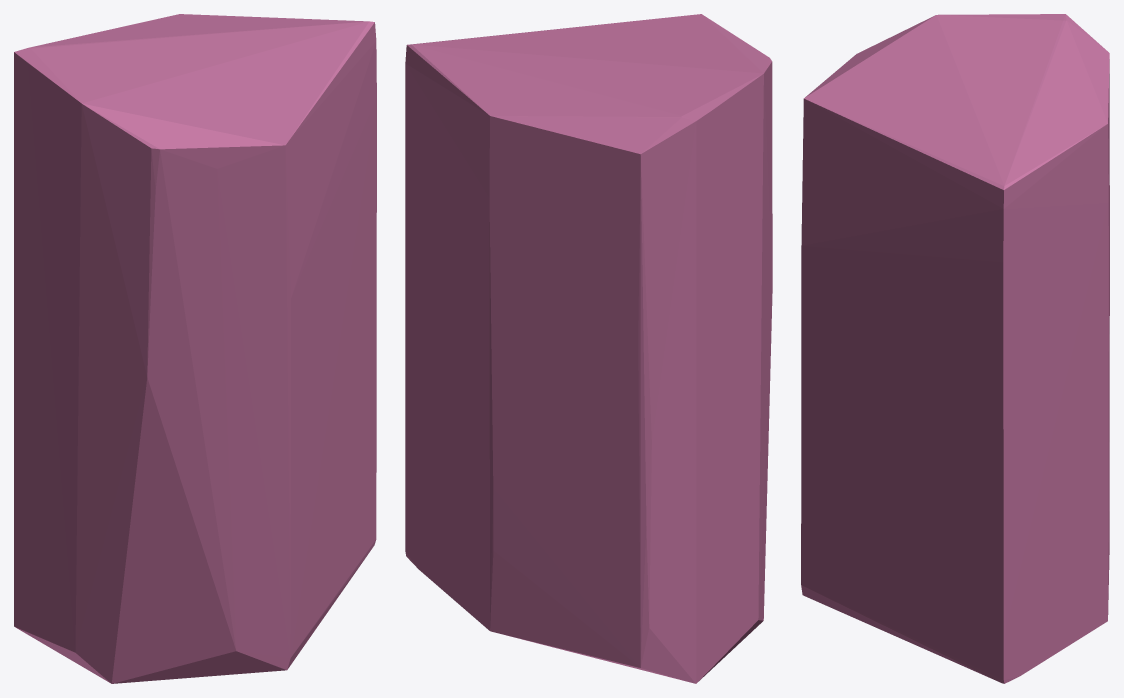
The model's file is serviceTool_sprayGunHolder_wallRack_a01.glb.
3 views of the same model, side by side, from view 1: azimuth 30°, elevation 25°; view 2: azimuth 150°, elevation 25°; view 3: azimuth 270°, elevation 25° (orthographic). The views are drawn at different scales.
Visible parts, largest first — view 1: geometry_0; view 2: geometry_0; view 3: geometry_0.
Boxes of the visible parts, x1,y1,x2,y2 form: geometry_0: [14, 14, 376, 683]; geometry_0: [405, 14, 772, 683]; geometry_0: [801, 14, 1109, 683].
Bounding box in the file's own units: 0.2888 × 0.48 × 0.2467.
